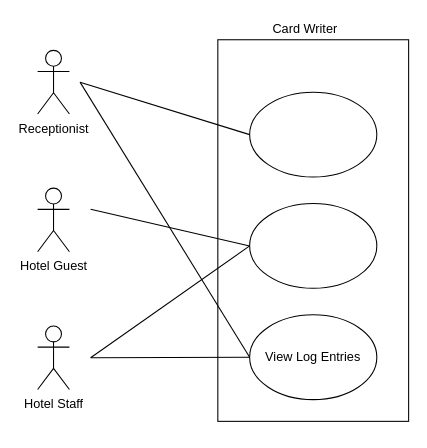
Some shapes in this 427 by 448 pixel diagram are drawn without their labels. The shapes that lost their labels are listed below. From the top down, each one's box as (x1, y1, x2, y2) in pixels, then its label:
(249, 91, 377, 177): Create Key Card
(249, 202, 377, 288): Receive Key Card
